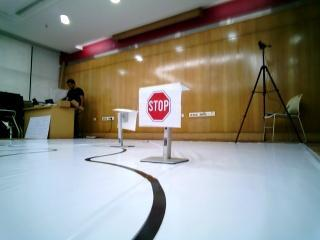stop: (142, 89, 178, 126)
